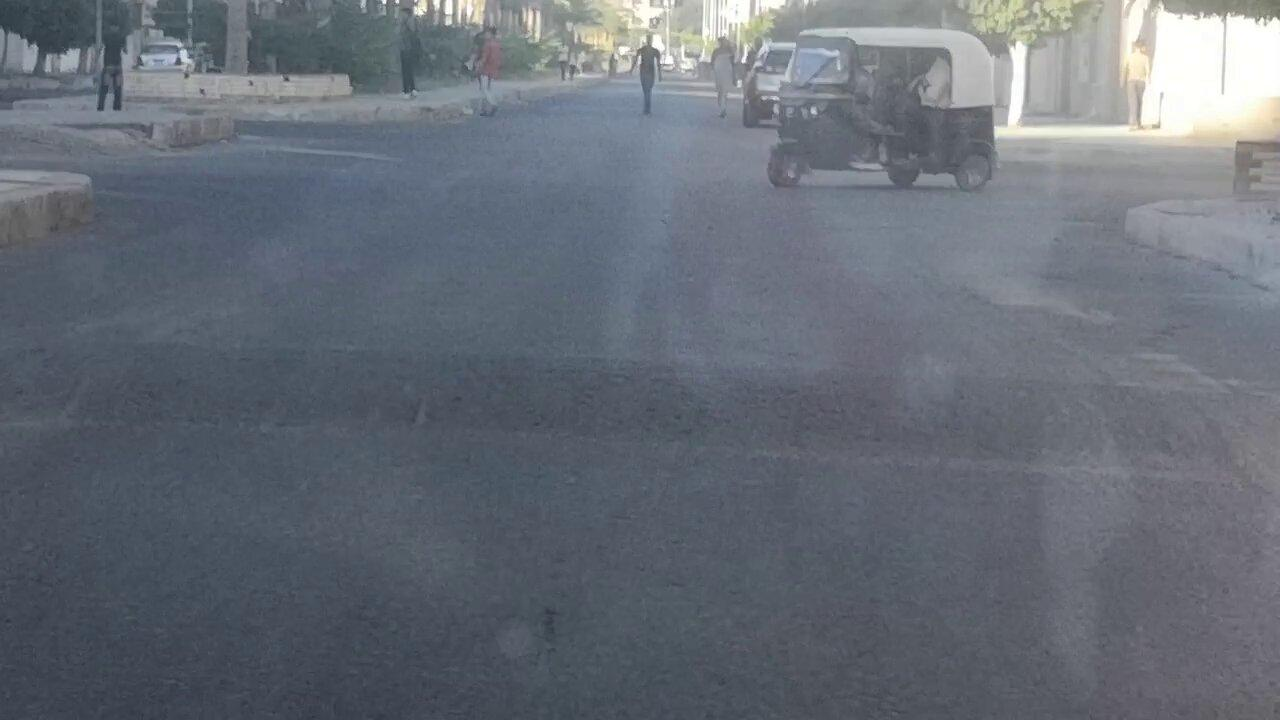Bump: (7, 307, 1280, 462)
